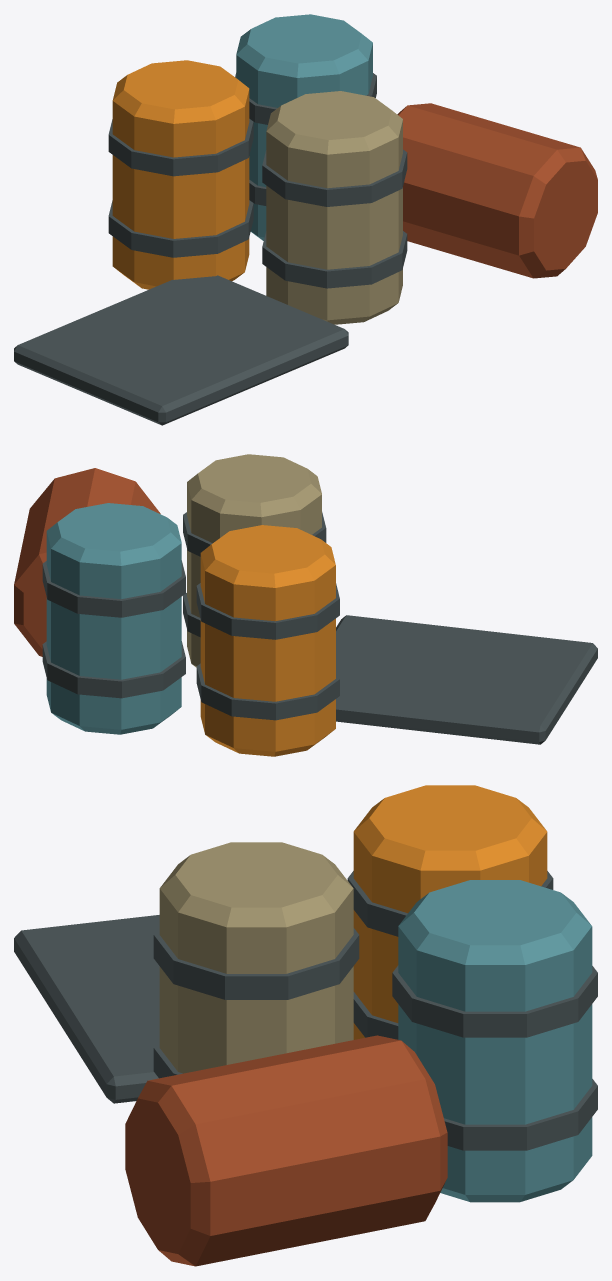
The model's file is wb_barrel_cluster.glb.
3 renders of one model, top to bottom at view 1: azimuth 30°, elevation 25°; view 2: azimuth 150°, elevation 25°; view 3: azimuth 270°, elevation 25°, orthographic. The views are drawn at different scales.
Visible parts, largest first — view 1: wb_barrel_cluster; view 2: wb_barrel_cluster; view 3: wb_barrel_cluster.
Part boxes in pixels (x1,y1,x2,y2): wb_barrel_cluster: (14, 14, 597, 425); wb_barrel_cluster: (14, 454, 597, 756); wb_barrel_cluster: (14, 785, 597, 1266).
Bounding box in the file's own units: 1.18 × 0.38 × 0.7831.
